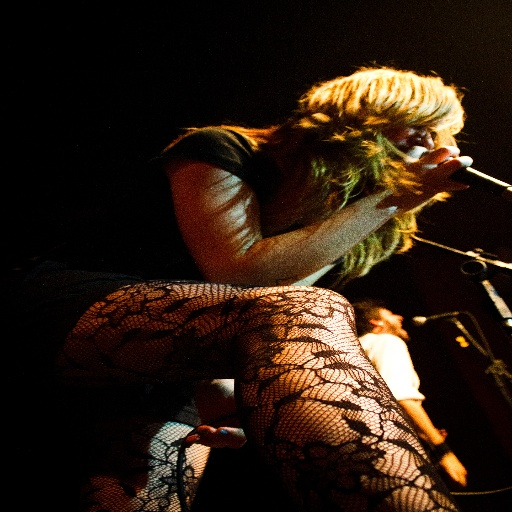hand: (184, 380, 252, 450), (391, 143, 473, 199)
